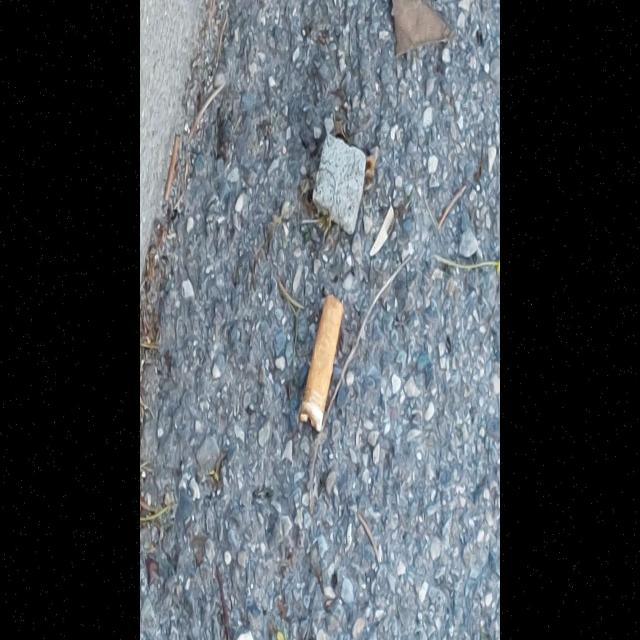other waste: (298, 293, 344, 434)
